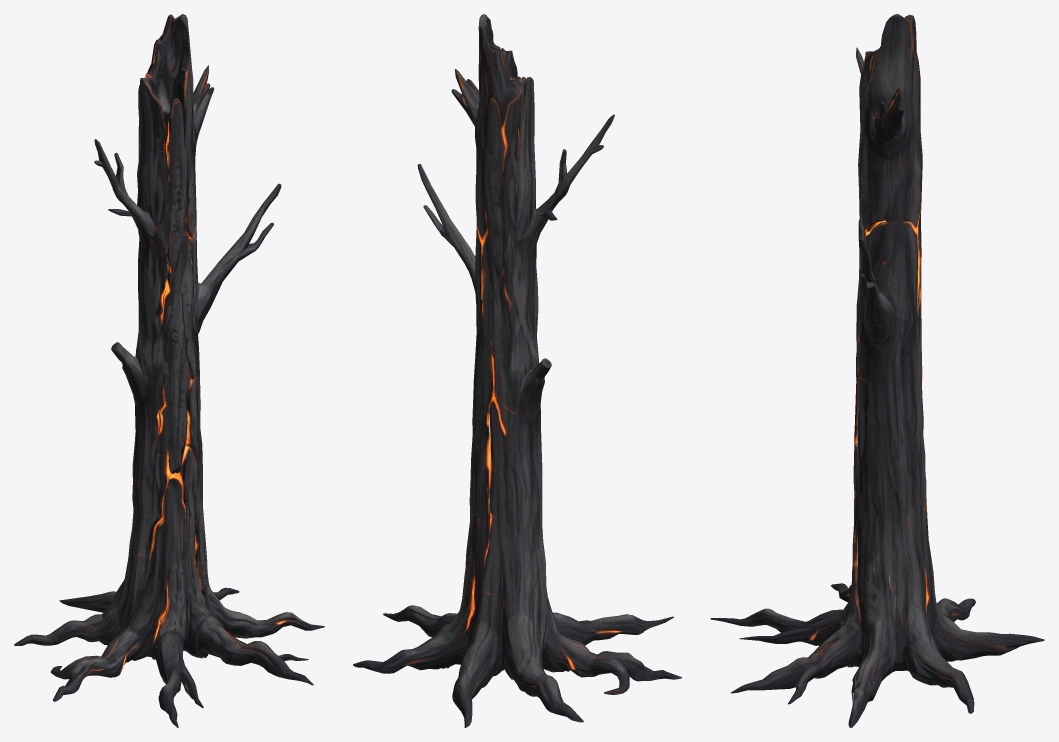
Rendered from meshy_tree.glb.
3 views of the same model, side by side, from view 1: azimuth 30°, elevation 25°; view 2: azimuth 150°, elevation 25°; view 3: azimuth 270°, elevation 25° (orthographic). The views are drawn at different scales.
Visible parts, largest first — view 1: Mesh_0; view 2: Mesh_0; view 3: Mesh_0.
Part boxes in pixels (bbox=[...]): Mesh_0: bbox=[14, 14, 324, 727]; Mesh_0: bbox=[353, 14, 681, 727]; Mesh_0: bbox=[710, 14, 1044, 727].
Size of the model in its own units: 0.4688 by 1 by 0.4636.
Materials: 1 (1 with a texture image).
